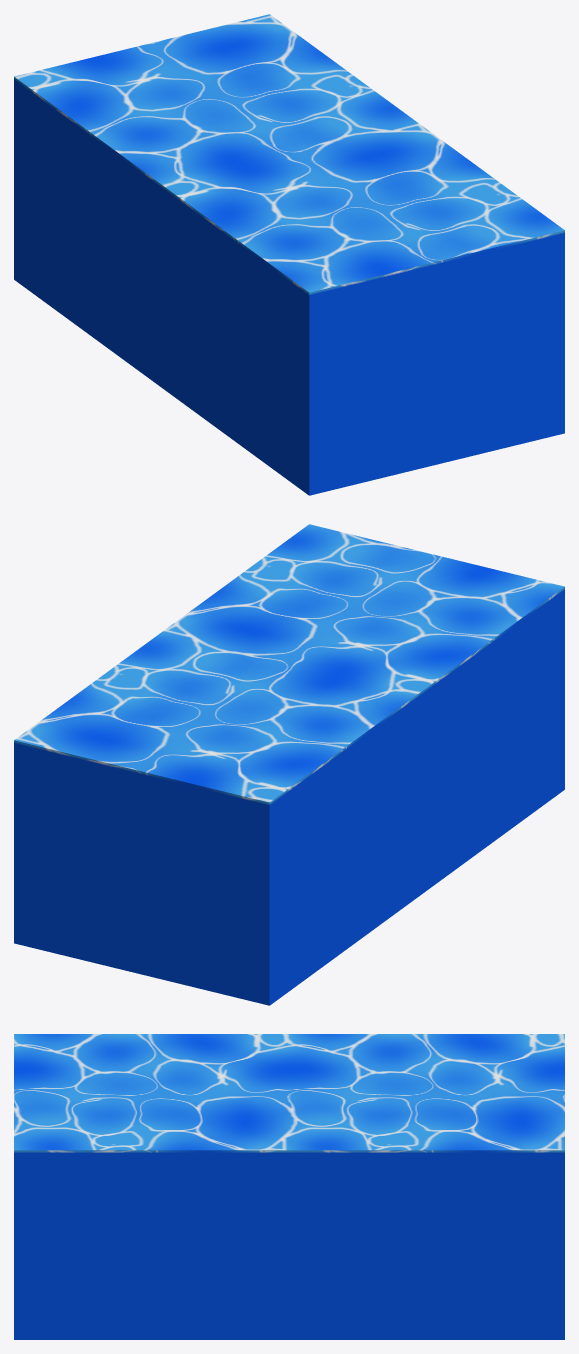
File: MG-ChJ-CS-09ShuiMian-2.FBX
3 views of the same model, one above another, from view 1: azimuth 30°, elevation 25°; view 2: azimuth 150°, elevation 25°; view 3: azimuth 270°, elevation 25° (orthographic). The views are drawn at different scales.
Visible parts, largest first — view 1: MG-ChJ-CS-09ShuiMian-2; view 2: MG-ChJ-CS-09ShuiMian-2; view 3: MG-ChJ-CS-09ShuiMian-2.
Part boxes in pixels (x1,y1,x2,y2): MG-ChJ-CS-09ShuiMian-2: (14, 14, 564, 495); MG-ChJ-CS-09ShuiMian-2: (14, 524, 564, 1005); MG-ChJ-CS-09ShuiMian-2: (14, 1034, 564, 1339).
Bounding box in the file's own units: 39.37 × 29.88 × 78.74.
